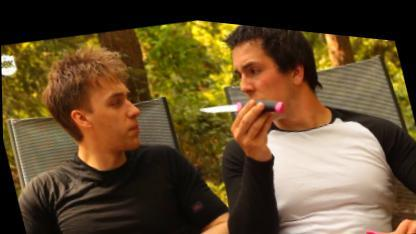knife: (192, 75, 294, 131)
